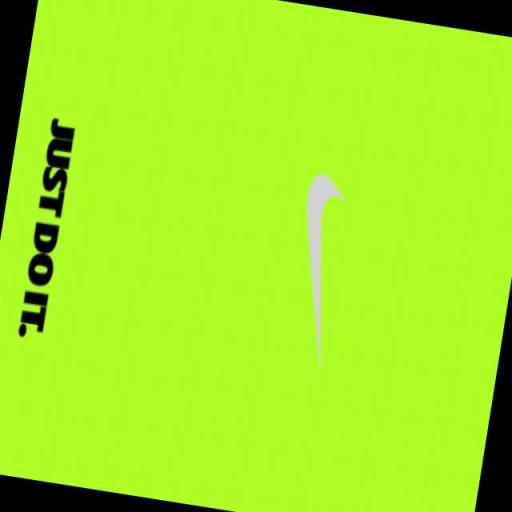Nike: (275, 158, 361, 379)
